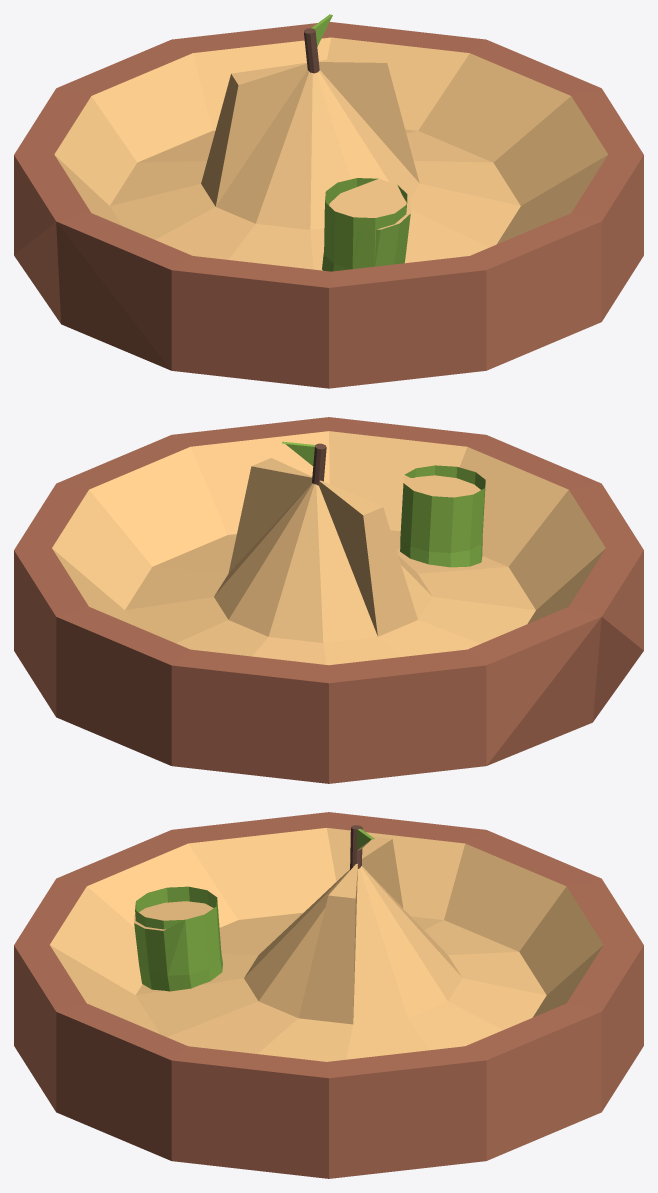
File: familySandpit.glb
3 renders of one model, top to bottom at view 1: azimuth 30°, elevation 25°; view 2: azimuth 150°, elevation 25°; view 3: azimuth 270°, elevation 25°, orthographic.
Visible parts, largest first — view 1: group223979644, group1101206371, group1424928973; view 2: group223979644, group1101206371, group1424928973; view 3: group223979644, group1101206371, group1424928973.
Boxes of the visible parts, x1,y1,x2,y2 form: group223979644: (14,22,643,388); group1101206371: (322,178,410,271); group1424928973: (304,14,332,73); group223979644: (14,417,643,783); group1101206371: (400,465,485,567); group1424928973: (282,441,326,485); group223979644: (14,812,643,1178); group1101206371: (134,886,222,991); group1424928973: (350,825,374,869).
Size of the model in its own units: 0.5219 by 0.2048 by 0.5219.
